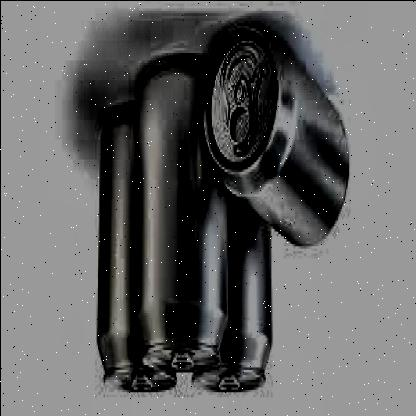Can: (198, 16, 350, 250), (132, 51, 230, 377), (94, 104, 178, 396), (188, 168, 272, 396)
